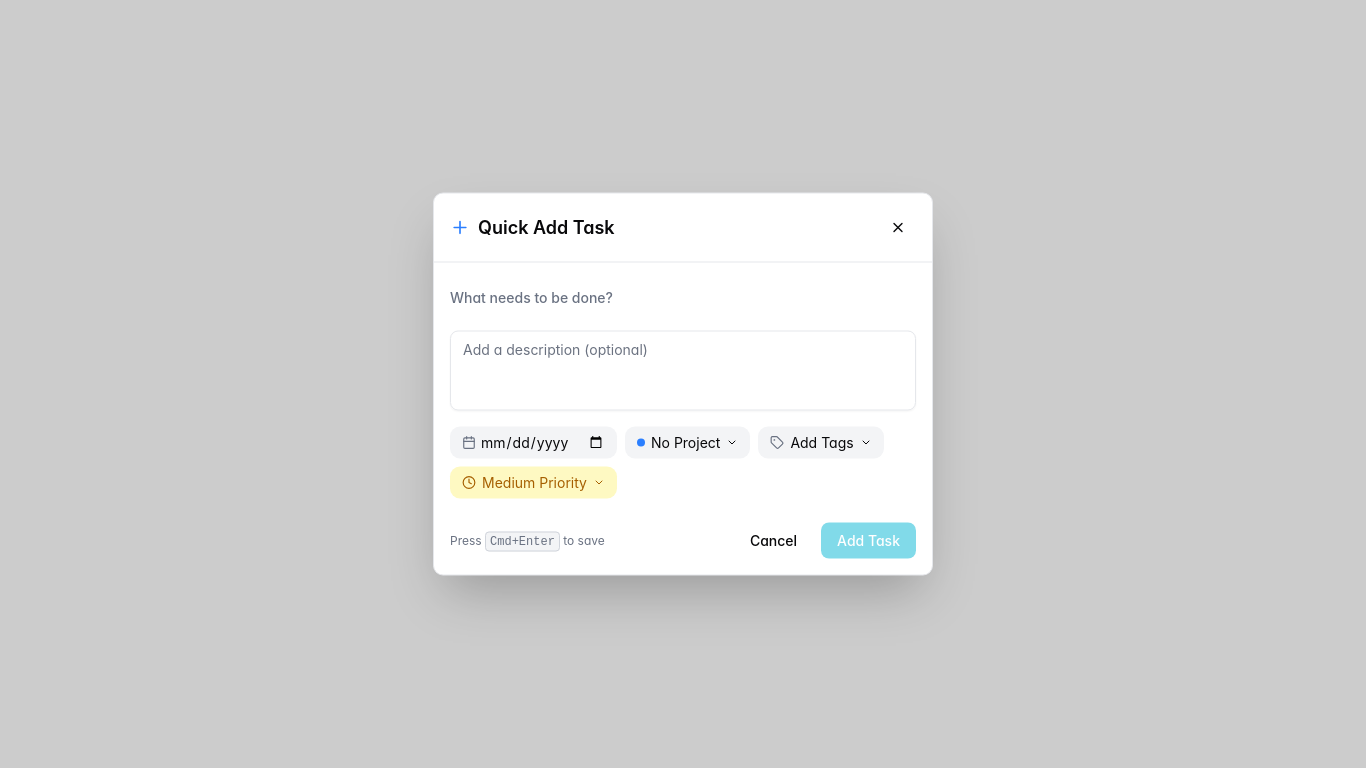
Test: QuickAddTask NL prefill (S5) › shows the review hint when confidence is low
Type "xyzzy" into the field with placeholder "What needs to be done?" at [683, 296], box [450,278,916,314]
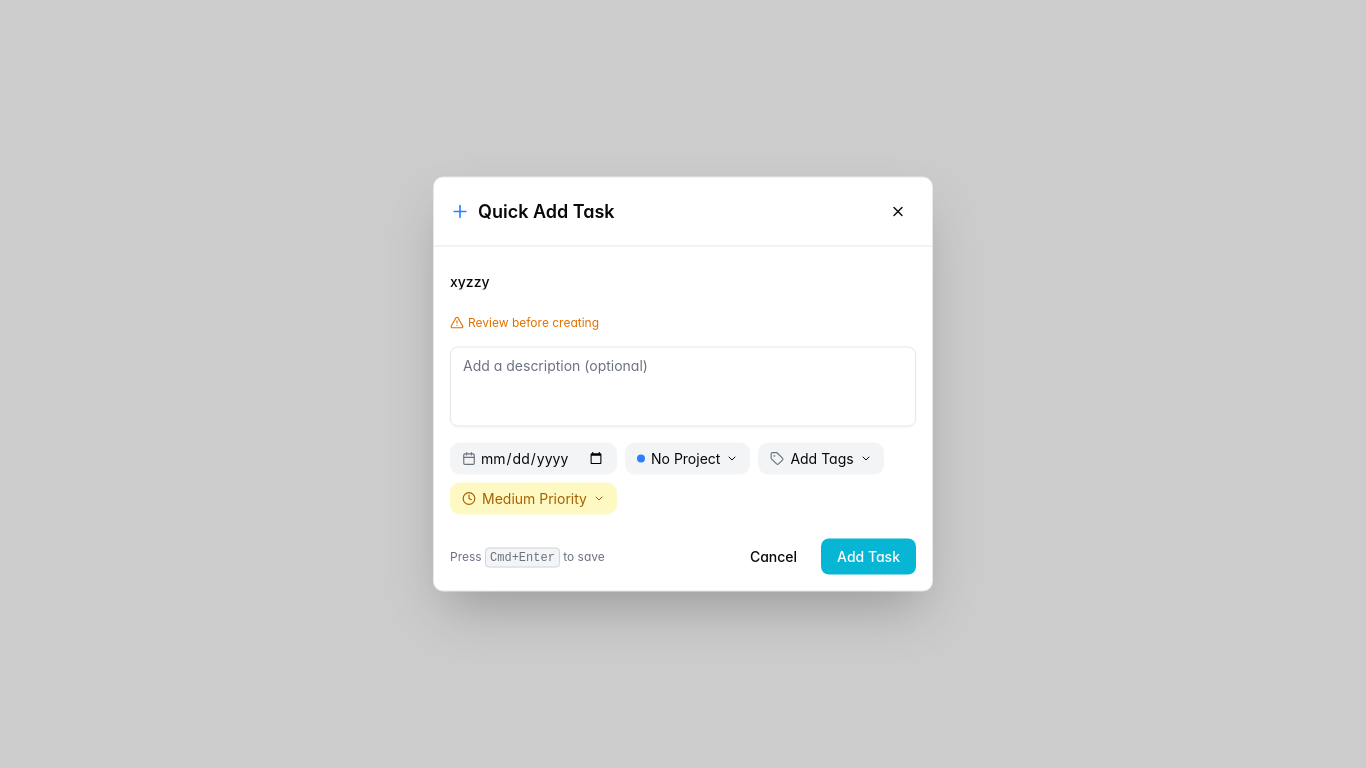
Expected: the text "Review before creating" is shown, [450,314,599,330]
